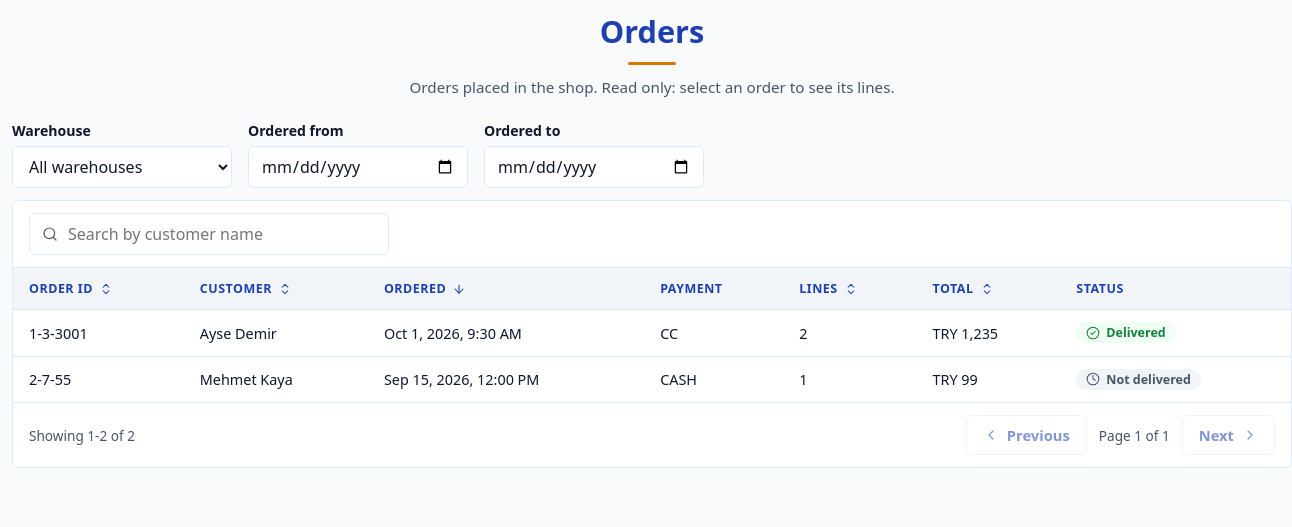
it: an end date before the start date is shown and is not sent until it is corrected
Expected: the text "1-3-3001" is shown, 13,310 -> 184,356
Type "2026-10-10" into the date field labelled "Ordered from". click: (358, 167)
box: 248,146 -> 468,188
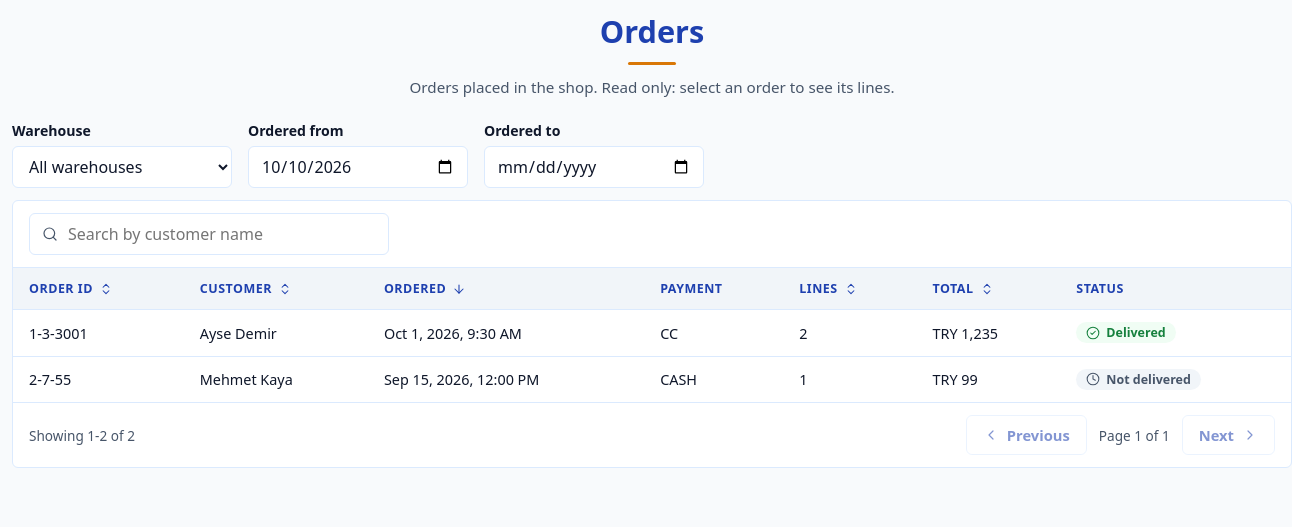
Type "2026-10-01" into the date field labelled "Ordered to". click: (594, 167)
box: 484,146 -> 704,188
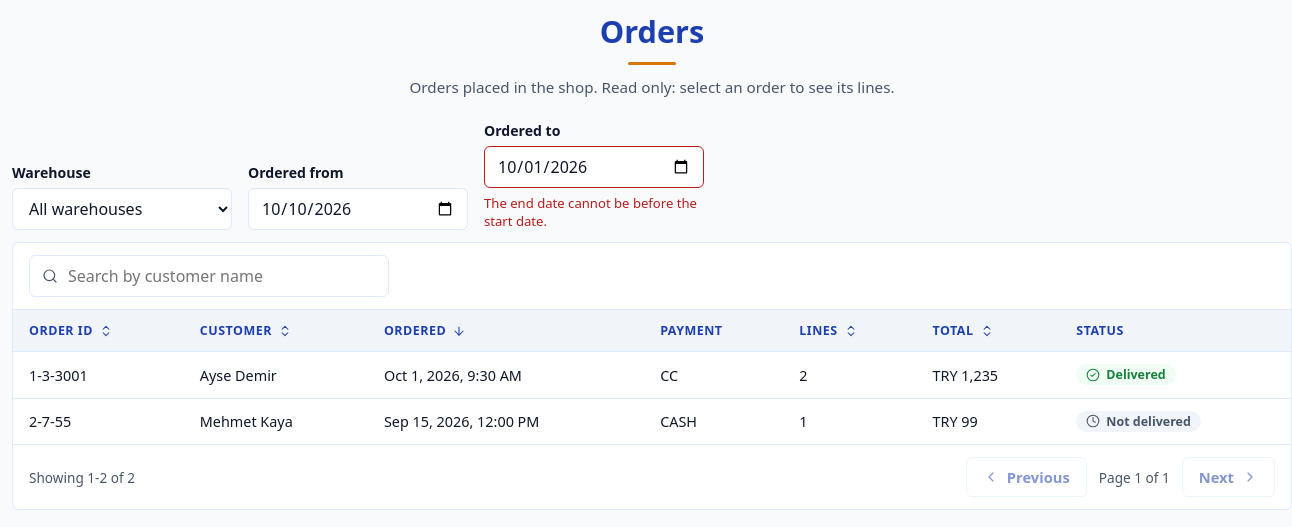
Expected: the text "The end date cannot be before the start date." is shown, 484,194 -> 704,230
